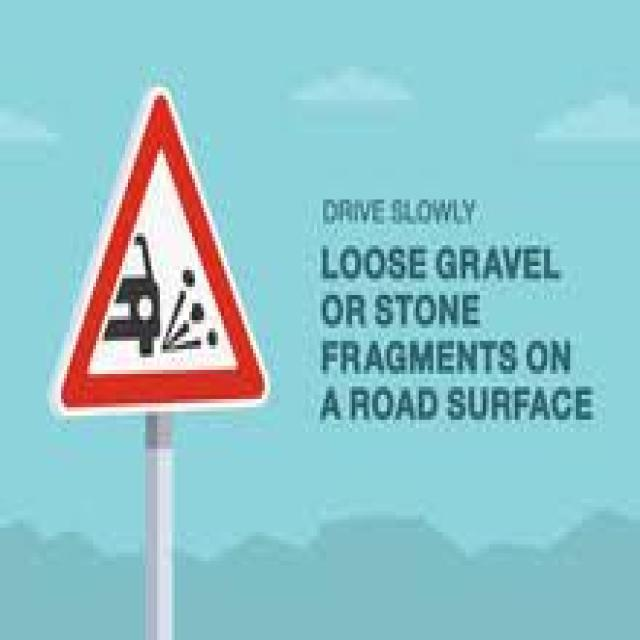loose gravel: (46, 78, 279, 429)
